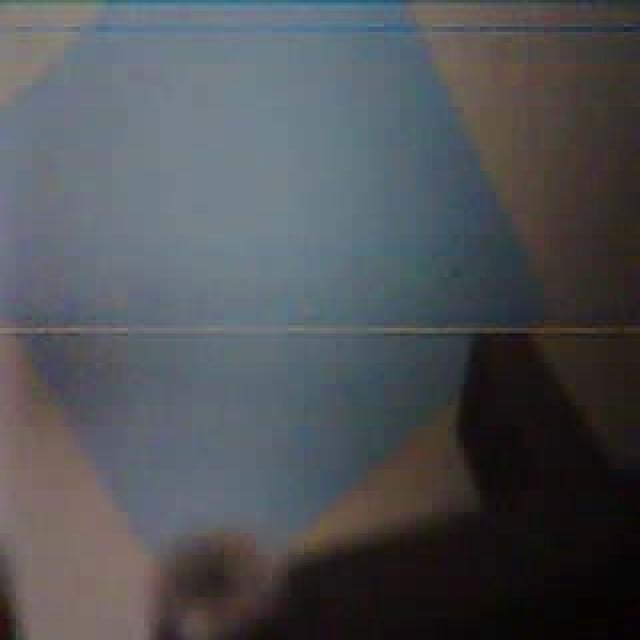blue_box: (4, 7, 552, 572)
